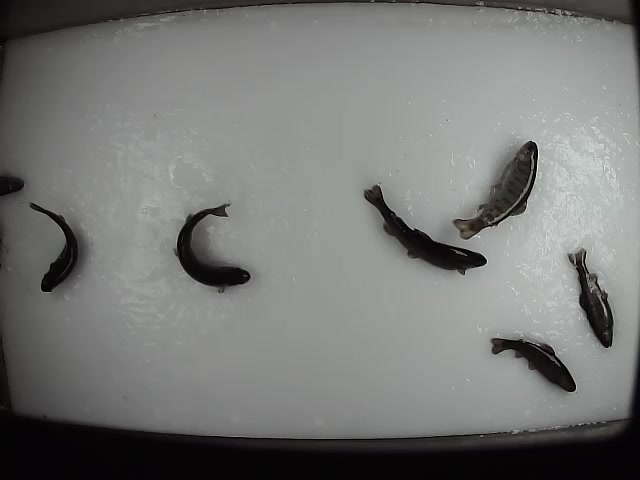fish: (361, 180, 490, 274), (451, 138, 538, 240), (170, 199, 256, 295), (25, 197, 82, 294), (563, 246, 615, 349), (489, 335, 579, 393)
